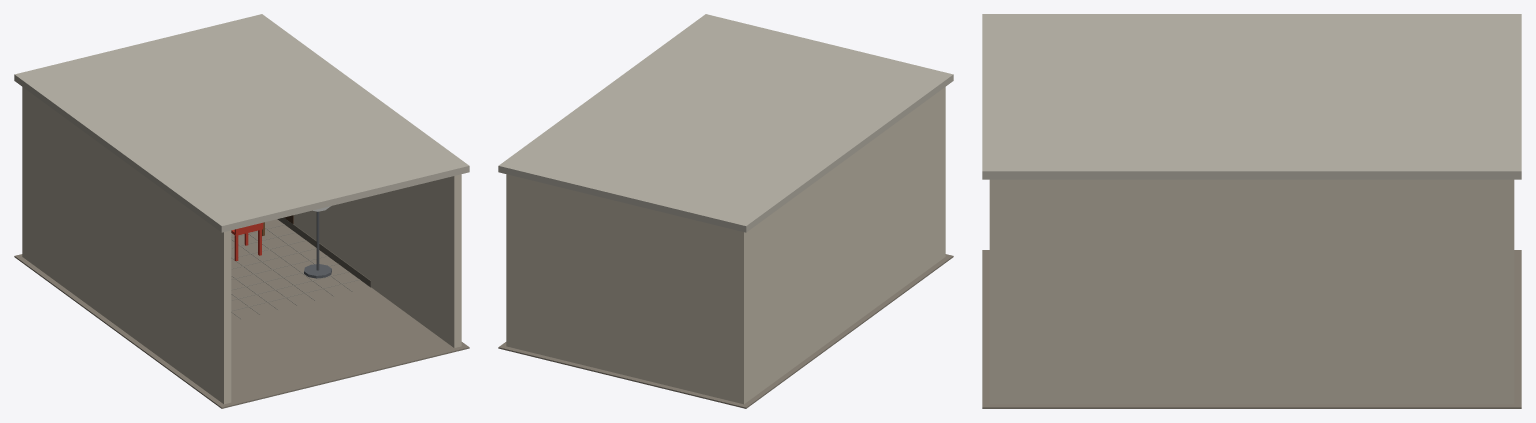
The model's file is story_rented_room.glb.
3 renders of one model, left to right at view 1: azimuth 30°, elevation 25°; view 2: azimuth 150°, elevation 25°; view 3: azimuth 270°, elevation 25°, orthographic. The views are drawn at different scales.
Visible parts, largest first — view 1: story_rented_room_room_mesh, story_rented_room_props_mesh; view 2: story_rented_room_room_mesh; view 3: story_rented_room_room_mesh.
Part boxes in pixels (x1,y1,x2,y2): story_rented_room_room_mesh: (14,14,469,408); story_rented_room_props_mesh: (231,206,331,278); story_rented_room_room_mesh: (498,14,953,408); story_rented_room_room_mesh: (982,14,1521,408).
Size of the model in its own units: 4 by 2.82 by 5.8.
